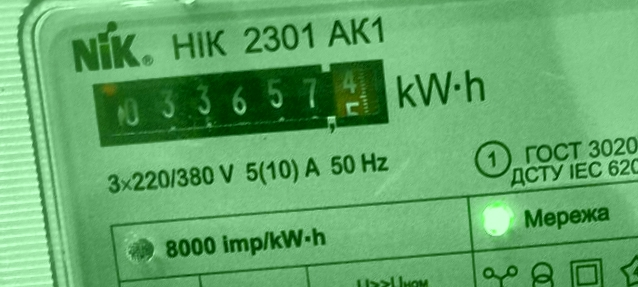0: (119, 91, 143, 130)
3: (157, 85, 178, 121), (193, 81, 213, 117)
4: (339, 65, 360, 96)
5: (262, 73, 287, 111)
6: (227, 81, 249, 118)
7: (299, 73, 320, 110)
screen: (80, 50, 398, 156)
